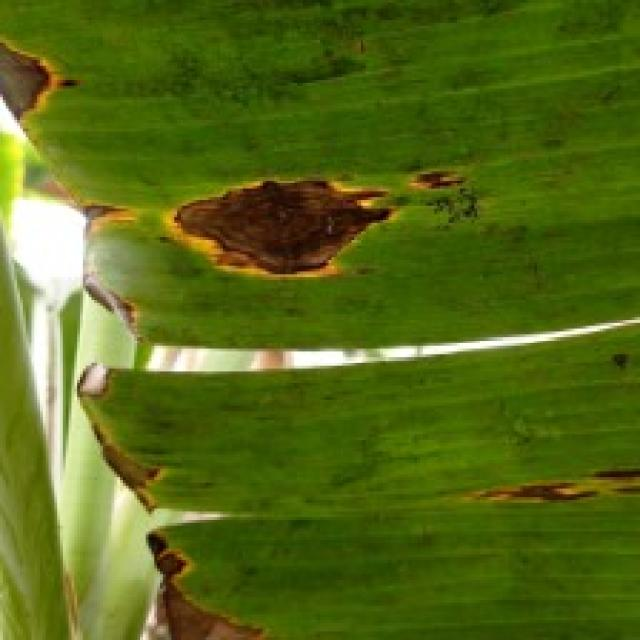Bacterial_spot: (162, 147, 402, 286), (140, 525, 268, 640), (451, 460, 640, 523), (0, 24, 95, 149), (79, 407, 173, 518), (72, 262, 152, 348), (51, 193, 149, 249), (406, 142, 478, 211), (70, 349, 134, 408), (605, 343, 640, 388), (346, 32, 376, 72)
